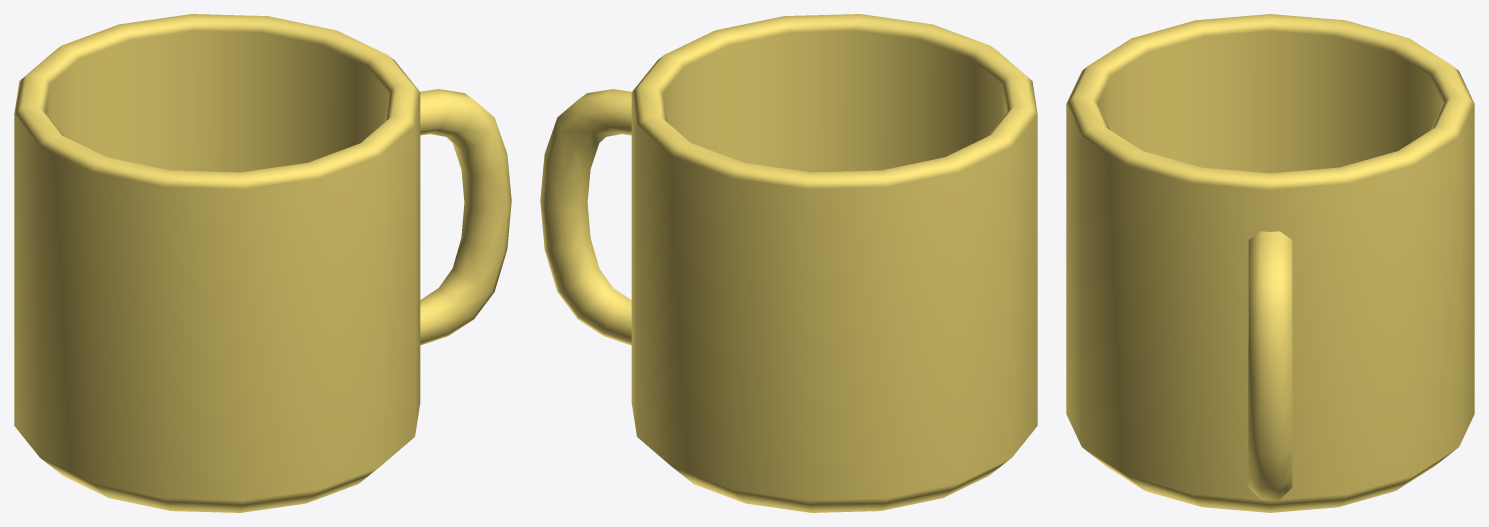
File: Cup_7.glb
3 renders of one model, left to right at view 1: azimuth 30°, elevation 25°; view 2: azimuth 150°, elevation 25°; view 3: azimuth 270°, elevation 25°, orthographic.
Parts seen in each view (by area): view 1: Cup_7; view 2: Cup_7; view 3: Cup_7.
Boxes of the visible parts, box(x1,y1,x2,y2) form: Cup_7: box(14, 14, 511, 512); Cup_7: box(540, 14, 1037, 512); Cup_7: box(1066, 14, 1474, 512).
Size of the model in its own units: 0.1819 by 0.1273 by 0.1381.
1 material, 1 textured.
